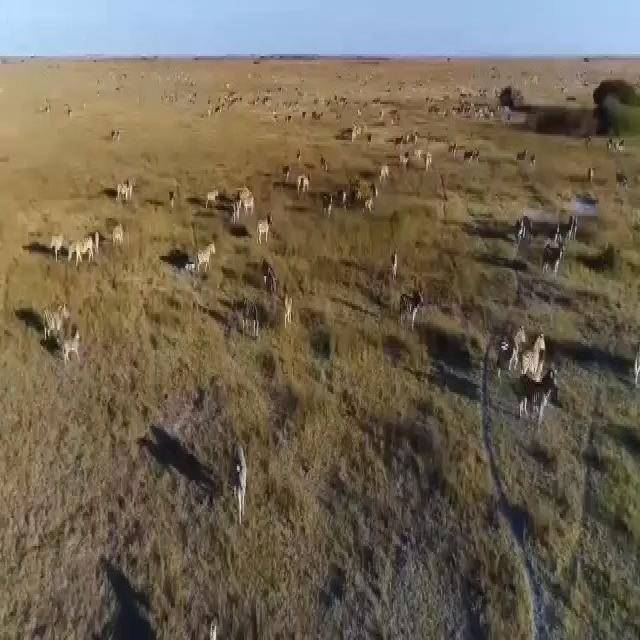Zebra: (514, 369, 562, 430), (228, 430, 255, 524), (509, 315, 548, 375), (33, 294, 71, 338), (237, 299, 271, 346), (67, 232, 101, 279), (552, 216, 588, 257), (189, 240, 224, 280), (276, 289, 301, 336), (44, 232, 68, 276), (400, 283, 423, 328), (62, 320, 82, 371), (253, 213, 275, 259), (541, 247, 566, 285), (231, 180, 253, 221), (110, 175, 138, 202), (516, 214, 534, 252), (386, 249, 406, 280), (298, 160, 314, 198), (359, 184, 380, 210), (204, 180, 219, 215), (462, 149, 483, 172), (445, 134, 459, 168), (330, 184, 347, 210), (517, 139, 530, 169), (205, 611, 218, 640), (633, 350, 640, 386), (323, 196, 332, 221), (114, 220, 124, 238)
